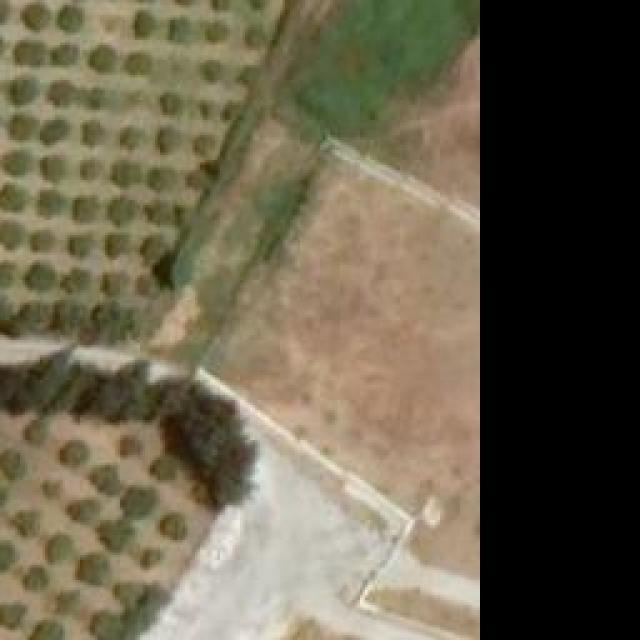Tree: (92, 300, 130, 333), (143, 200, 188, 225), (5, 73, 38, 106), (115, 580, 155, 605), (88, 465, 121, 495), (98, 522, 133, 550), (78, 555, 111, 583), (45, 80, 78, 108), (105, 198, 135, 228), (8, 510, 43, 535), (125, 487, 155, 515), (93, 612, 123, 640), (38, 117, 68, 145), (0, 147, 30, 175), (102, 230, 130, 260), (110, 160, 140, 188), (242, 20, 270, 50), (0, 178, 25, 211), (65, 498, 100, 521), (90, 45, 118, 73), (22, 2, 50, 30), (170, 17, 198, 45), (27, 620, 65, 640), (8, 113, 38, 138), (70, 195, 100, 220), (0, 220, 25, 250), (65, 235, 95, 260), (98, 270, 128, 295), (18, 305, 48, 330), (58, 3, 83, 33), (45, 535, 73, 560), (40, 155, 65, 183), (37, 190, 65, 215), (27, 263, 55, 288), (143, 235, 168, 263), (15, 40, 43, 65), (120, 125, 143, 153), (147, 168, 175, 191), (160, 513, 185, 538), (60, 303, 85, 328), (185, 173, 215, 193), (63, 440, 88, 463), (3, 453, 26, 478), (25, 418, 48, 443), (23, 565, 48, 588), (80, 120, 103, 145), (83, 85, 106, 110), (63, 268, 88, 291), (0, 605, 28, 625), (27, 230, 55, 250), (50, 45, 80, 63), (80, 158, 103, 181), (155, 128, 178, 151), (160, 93, 183, 116), (155, 455, 175, 480), (55, 593, 80, 613), (193, 135, 218, 155), (0, 541, 15, 573), (128, 53, 151, 73), (135, 10, 153, 35), (202, 58, 220, 81), (120, 435, 140, 455), (205, 20, 225, 40), (0, 263, 15, 288), (208, 0, 233, 15), (237, 65, 255, 83), (220, 103, 240, 118), (42, 480, 60, 495), (142, 550, 160, 565)
